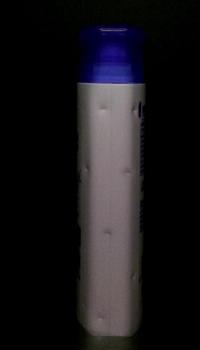dent_marginal: (122, 94, 142, 126), (89, 96, 115, 120), (96, 220, 120, 242), (115, 164, 137, 187), (80, 155, 97, 179), (90, 312, 113, 329), (128, 260, 142, 284)
